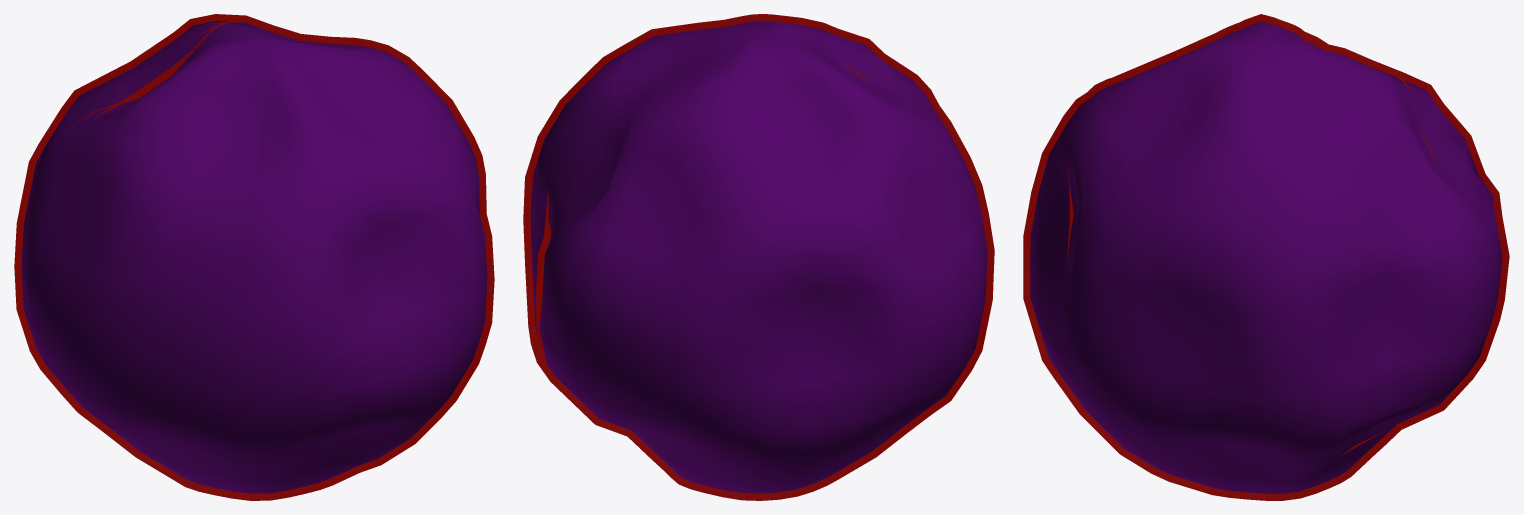
The model's file is Blorb.glb.
3 renders of one model, left to right at view 1: azimuth 30°, elevation 25°; view 2: azimuth 150°, elevation 25°; view 3: azimuth 270°, elevation 25°, orthographic.
Parts seen in each view (by area): view 1: blorb; view 2: blorb; view 3: blorb.
Part boxes in pixels (box(x1,y1,x2,y2)): blorb: box(14, 14, 494, 500); blorb: box(523, 14, 994, 500); blorb: box(1023, 14, 1509, 500).
Bounding box in the file's own units: 2.04 × 2.05 × 2.04.
